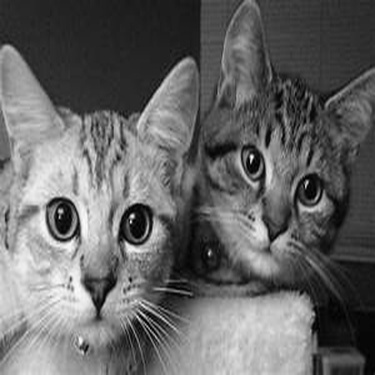cat: (186, 4, 369, 368), (1, 40, 199, 367)
